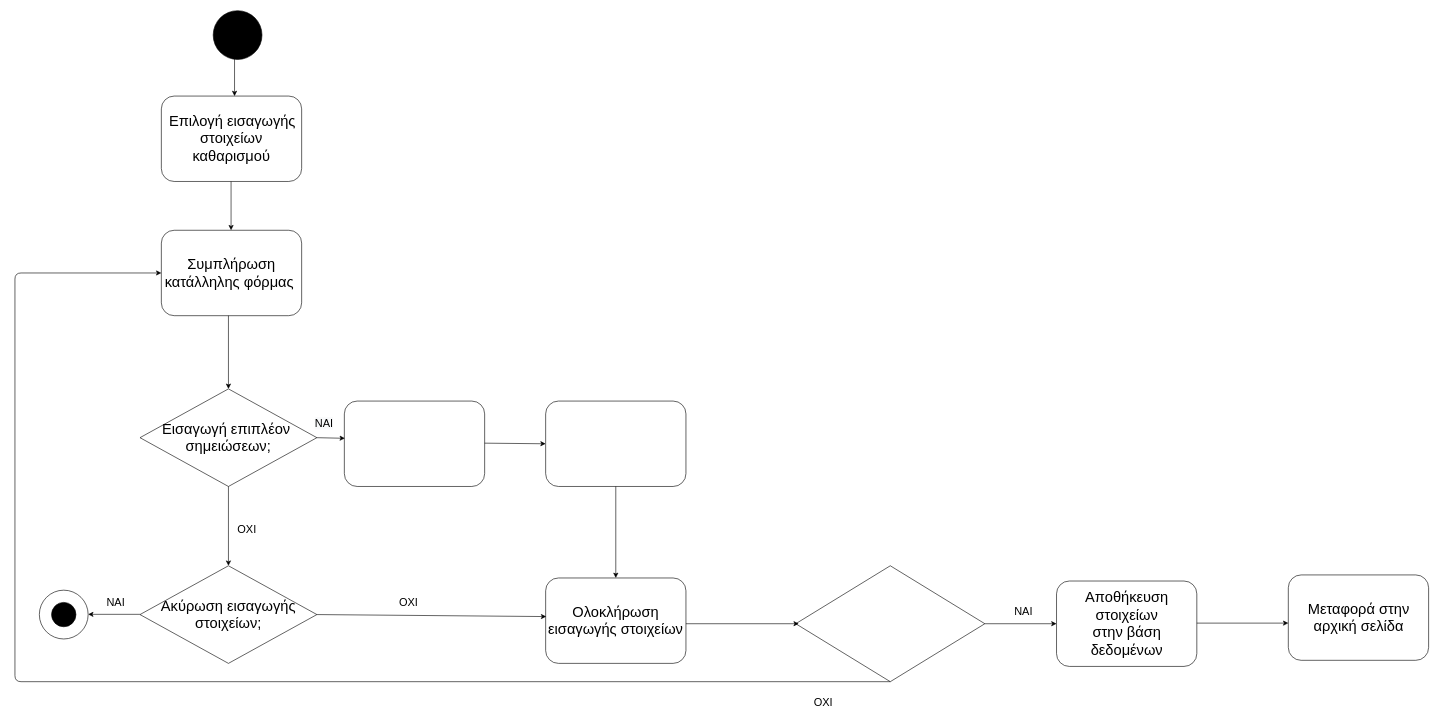
Some shapes in this 1440 by 720 pixel diagram are drawn without their labels. Each missing label, with the centre of its shape:
"Έγινε η εισαγωγή στοιχείων με βάση τους επιχειρησιακούς κανόνες;" belongs at (x=890, y=623).
"Εισαγωγή σημειώσεων" belongs at (x=414, y=443).
"Ολοκλήρωση εισαγωγής σημειώσεων" belongs at (x=615, y=443).
